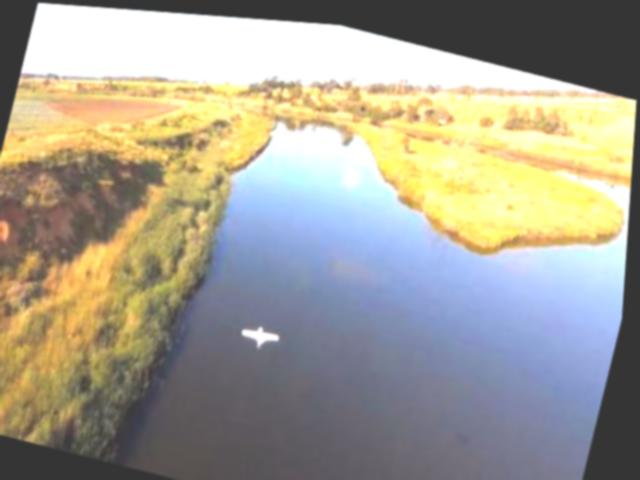uav: (241, 314, 287, 351)
